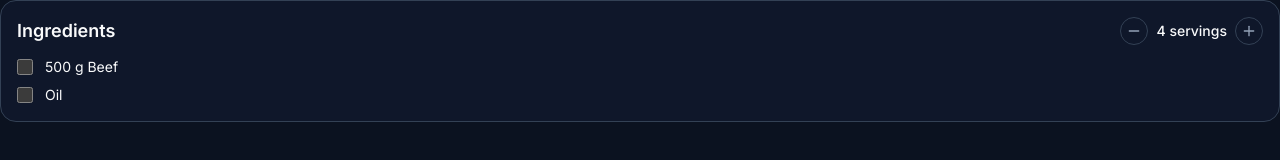
Test: IngredientList servings scaling › scales quantities down when servings are decreased
Step 1. Click the button named "Decrease servings" → (1134, 31), box [1120,17,1148,45]
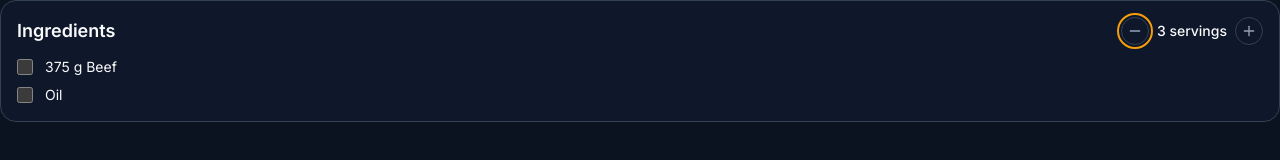
expect the text "375 g Beef" is shown: met, box [45,57,117,77]
